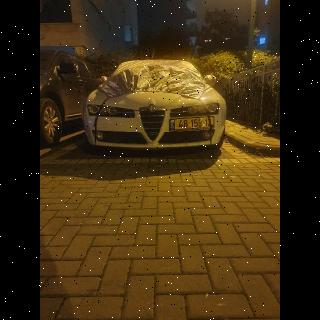LicensePlate: (175, 117, 214, 129)
